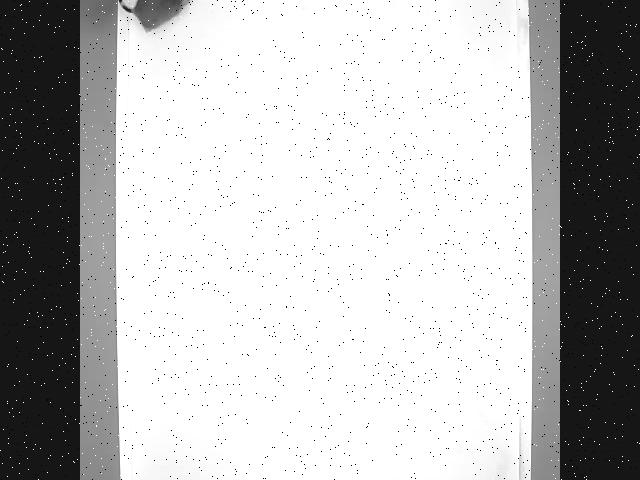Tikus: (116, 0, 198, 33)
